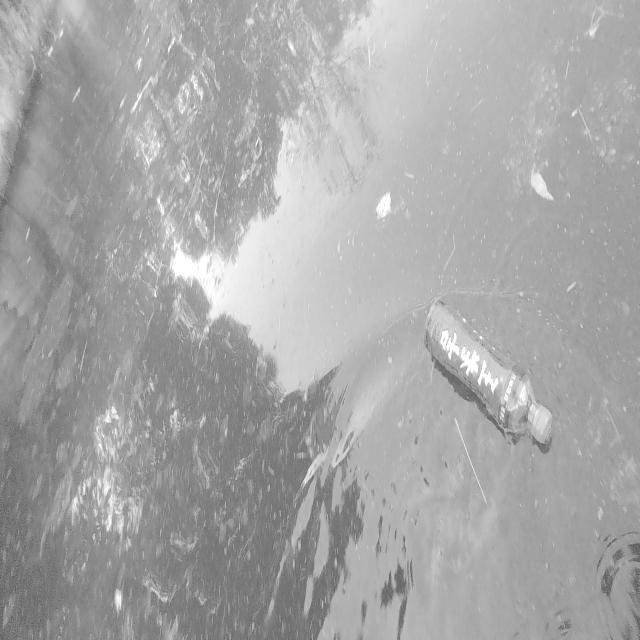bottle: (403, 268, 562, 459)
